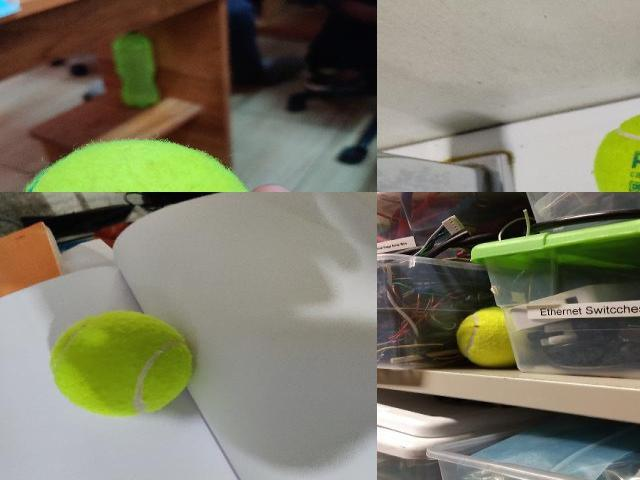tennis-ball: (48, 310, 194, 419), (7, 140, 261, 192), (590, 110, 639, 192), (455, 307, 516, 368)
